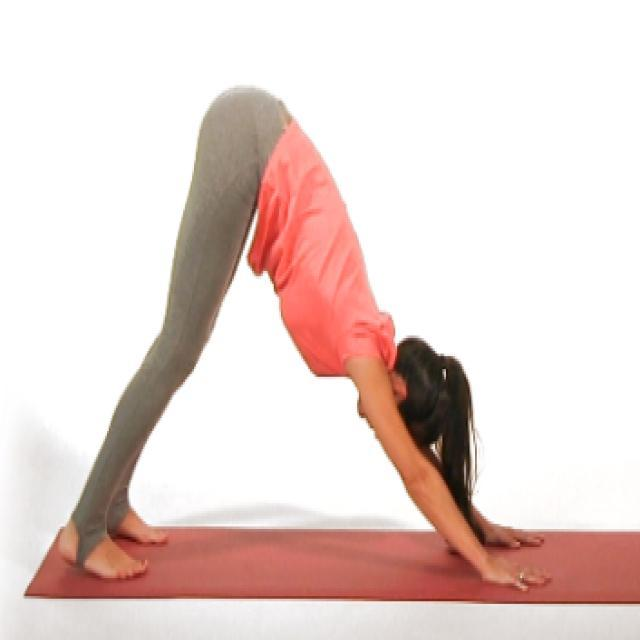Downward-Facing_Dog: (50, 72, 562, 598)
